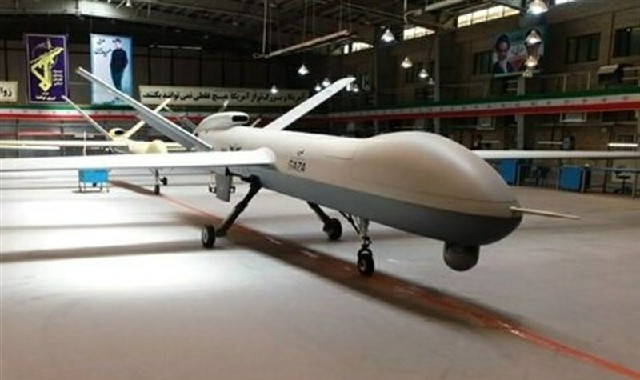maybay_khongnguoilai: (16, 69, 541, 276)
